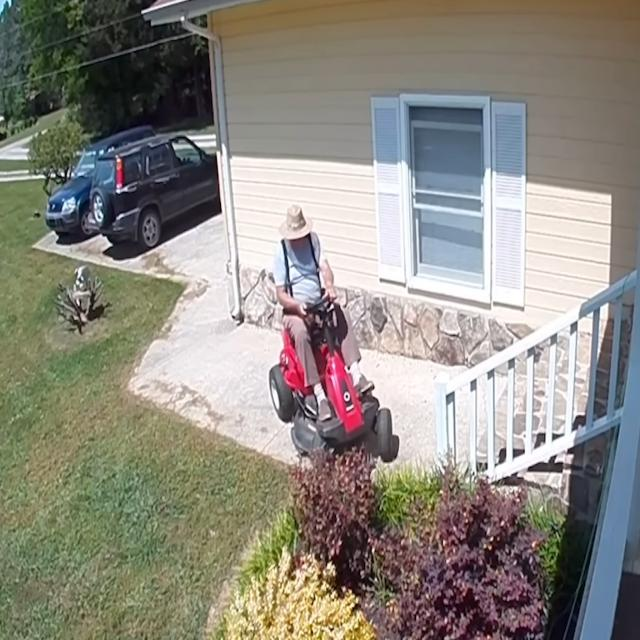sitting: (274, 205, 336, 421), (334, 304, 374, 396)
